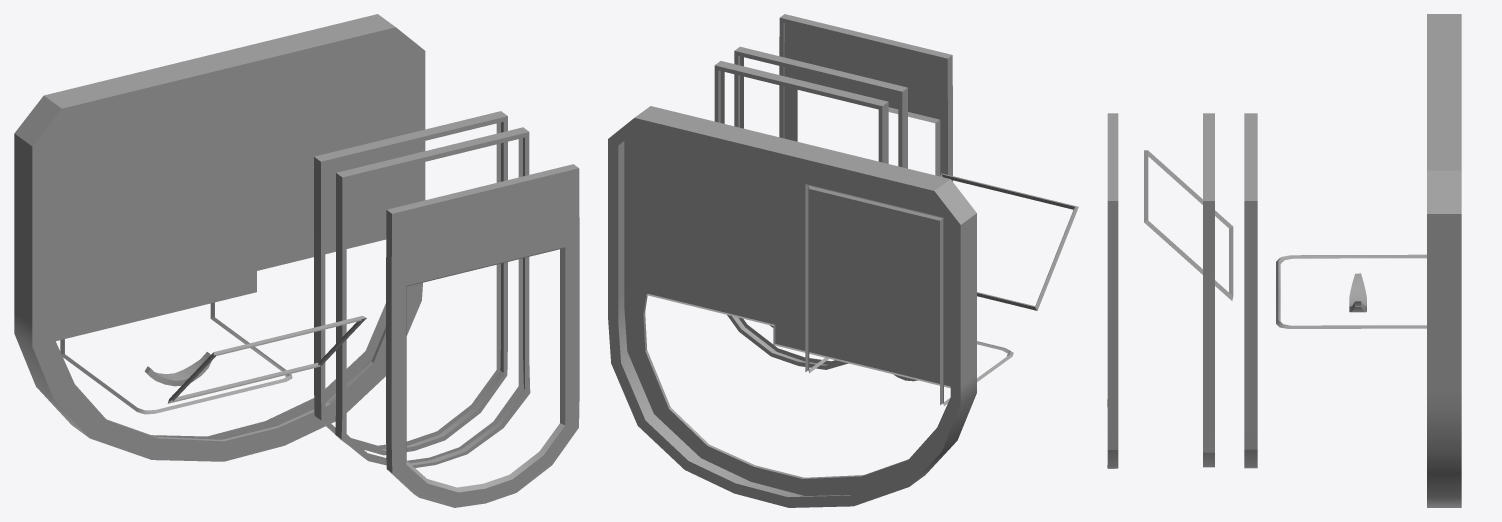
The model's file is CoffeeMachine_27_CoffeeMachine_27_0_GeomSubset_1.obj.
The picture shows the model from 3 angles, left to right: view 1: azimuth 30°, elevation 25°; view 2: azimuth 150°, elevation 25°; view 3: azimuth 270°, elevation 25°; orthographic projection. The views are drawn at different scales.
Visible parts, largest first — view 1: CoffeeMachine_27_CoffeeMachine_27_0_GeomSubset_1; view 2: CoffeeMachine_27_CoffeeMachine_27_0_GeomSubset_1; view 3: CoffeeMachine_27_CoffeeMachine_27_0_GeomSubset_1.
Boxes of the visible parts, box(x1,y1,x2,y2) form: CoffeeMachine_27_CoffeeMachine_27_0_GeomSubset_1: box(14, 14, 579, 507); CoffeeMachine_27_CoffeeMachine_27_0_GeomSubset_1: box(608, 14, 1078, 507); CoffeeMachine_27_CoffeeMachine_27_0_GeomSubset_1: box(1107, 14, 1461, 507).
Bounding box in the file's own units: 0.4544 × 0.434 × 0.3964.
